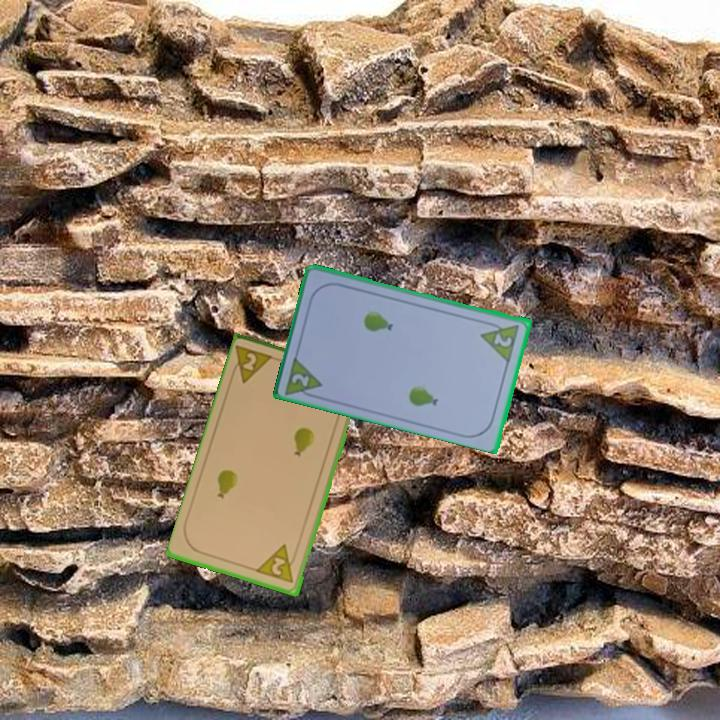2p: (227, 342, 278, 387), (281, 352, 326, 402), (254, 541, 300, 587), (478, 317, 522, 364)
